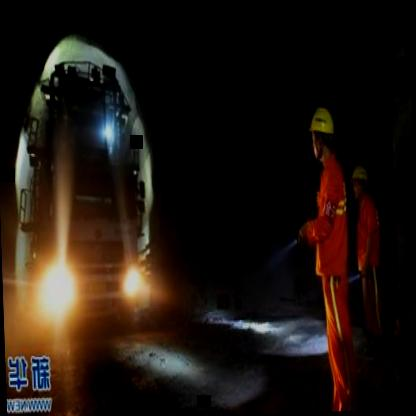helmet: (307, 100, 337, 166), (348, 160, 373, 207)
